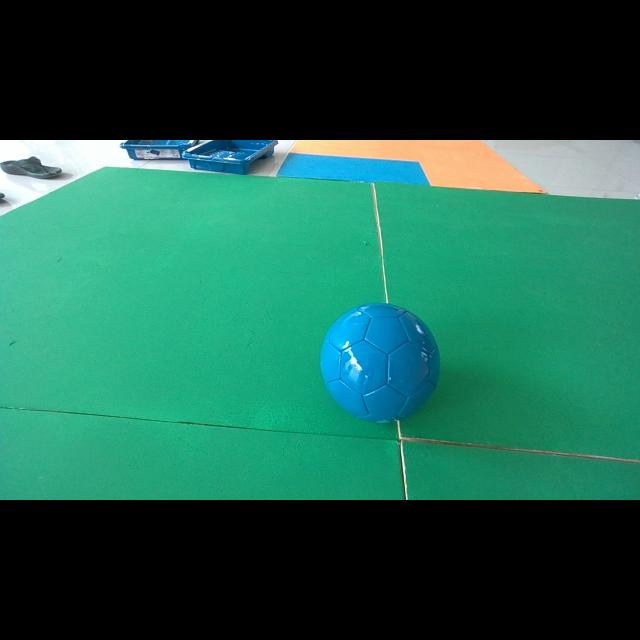B: (320, 302, 440, 422)
